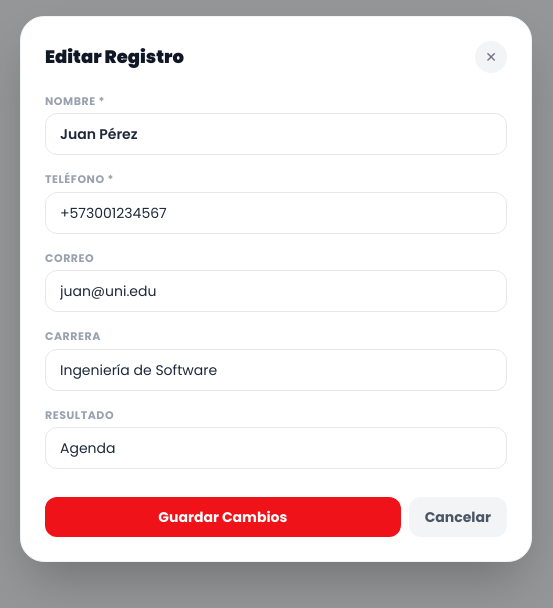
Test: RecordEditModal › should show saving state during submit
Click the button "Guardar Cambios": (223, 517) [45,497,401,537]
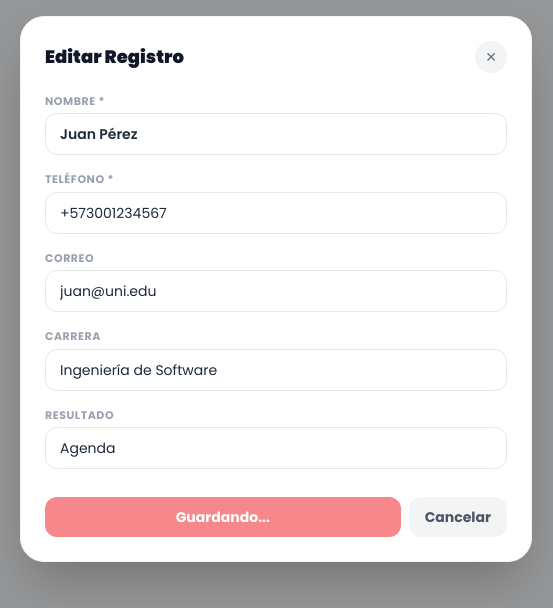
Check: the button "Guardando..." is disabled, box [45,497,401,537]
